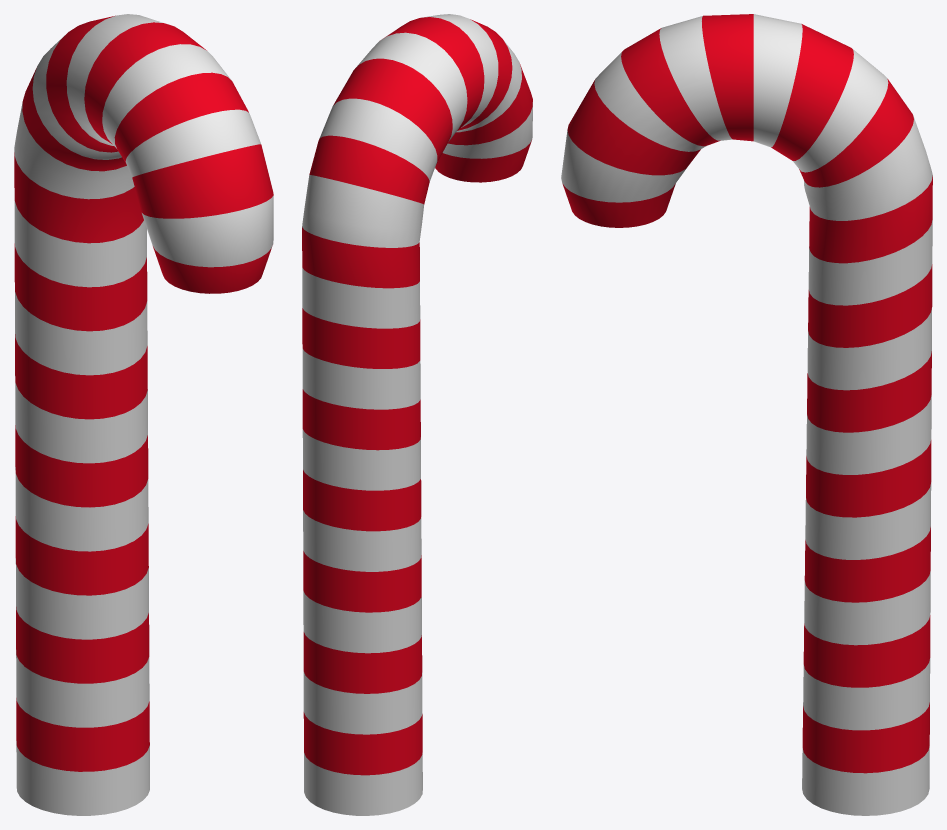
Rendered from candy2.fbx.
The picture shows the model from 3 angles, left to right: view 1: azimuth 30°, elevation 25°; view 2: azimuth 150°, elevation 25°; view 3: azimuth 270°, elevation 25°; orthographic projection. The views are drawn at different scales.
Visible parts, largest first — view 1: Cylinder.005; view 2: Cylinder.005; view 3: Cylinder.005.
Part boxes in pixels (left/top/right/bottom): Cylinder.005: left=14, top=14, right=273, bottom=815; Cylinder.005: left=302, top=14, right=532, bottom=815; Cylinder.005: left=561, top=14, right=932, bottom=815.
Size of the model in its own units: 200 by 1331 by 583.
